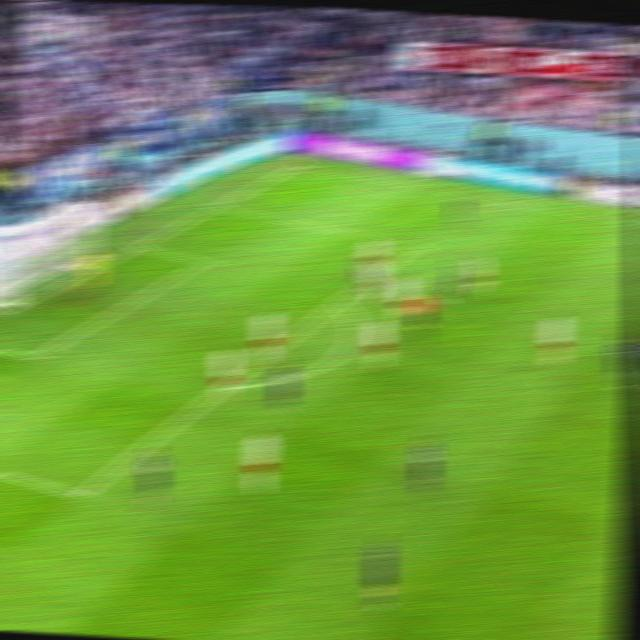bigarea_bottom_inner: (66, 478, 98, 507)
bigarea_top_inner: (401, 234, 428, 254)
bigarea_top_outter: (206, 196, 232, 213)
corner: (287, 157, 313, 170)
smallarea_bottom_inner: (19, 342, 49, 370)
smallarea_top_inner: (191, 252, 217, 269)
smallarea_top_outter: (126, 236, 151, 255)
top_arc_area_intersection: (326, 291, 351, 310)
